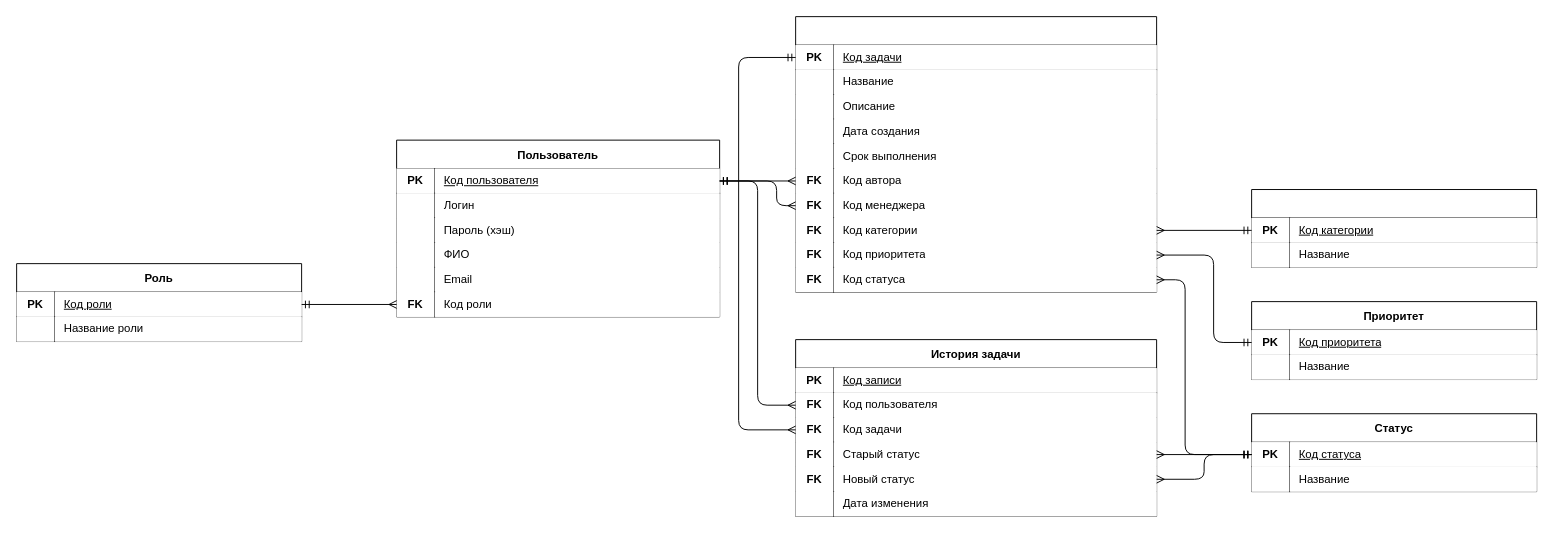
This 1553x533 diagram has some shape labels left out. The box of each missing label's shape, as (x1, y1, x2, y2) in pixels:
Задача: (795, 16, 1157, 292)
Категория: (1251, 189, 1537, 267)
